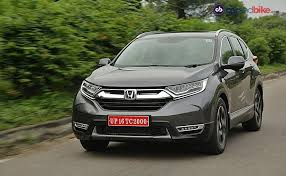Honda: (72, 29, 264, 154)
